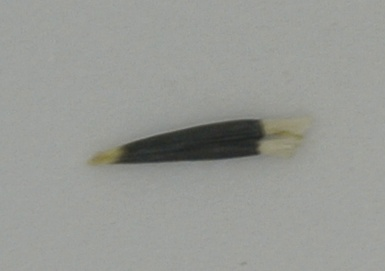เมล็ดดีติดกัน: (84, 113, 313, 164)
